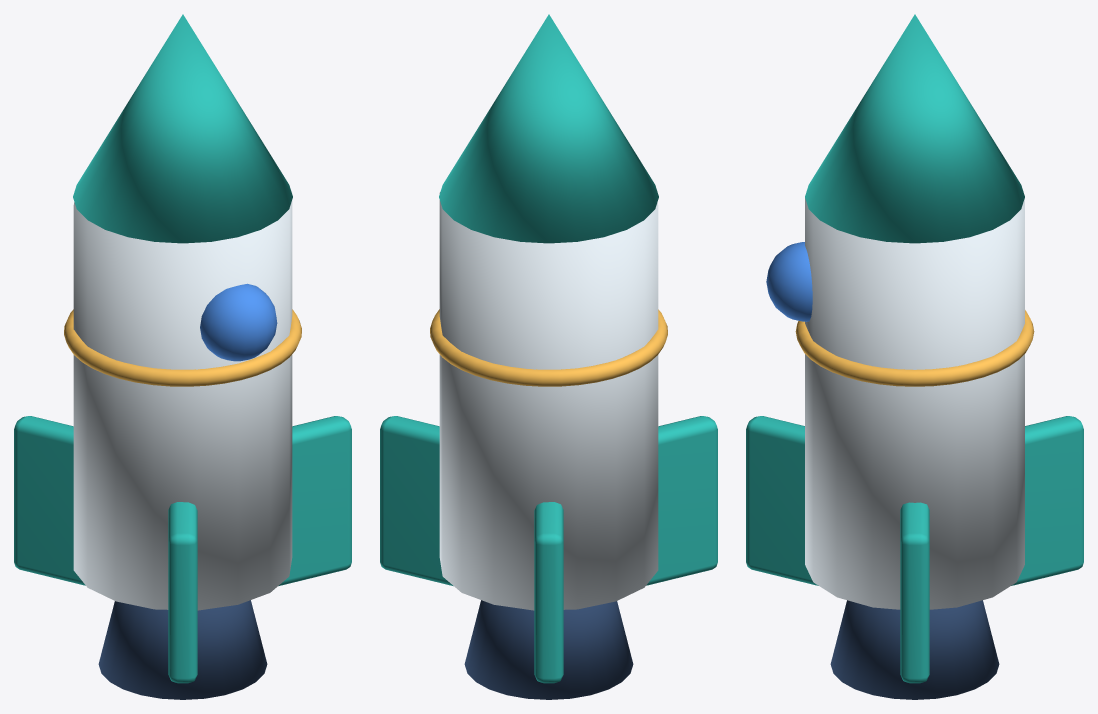
File: rocket-lite.glb
3 renders of one model, left to right at view 1: azimuth 30°, elevation 25°; view 2: azimuth 150°, elevation 25°; view 3: azimuth 270°, elevation 25°, orthographic.
Parts seen in each view (by area): view 1: Body; view 2: Body; view 3: Body.
Part boxes in pixels (x1,y1,x2,y2): Body: (14, 14, 351, 699); Body: (380, 14, 717, 699); Body: (746, 14, 1083, 699).
Size of the model in its own units: 0.845 by 1.96 by 0.9207.
